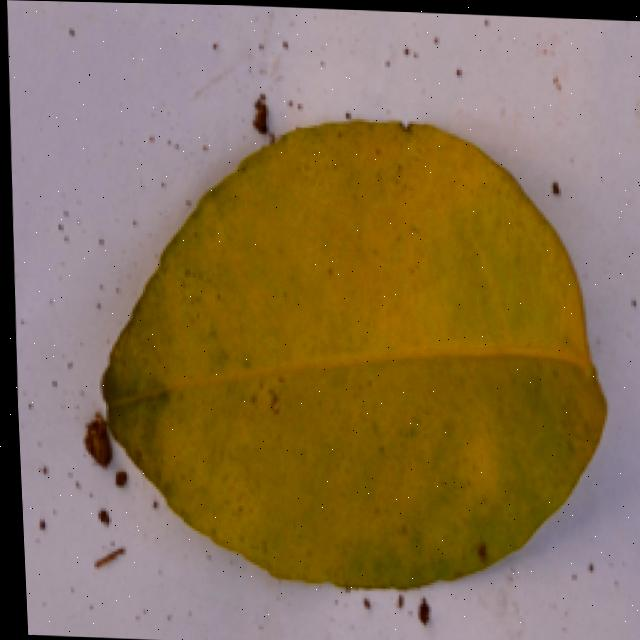canker: (104, 125, 603, 586)
